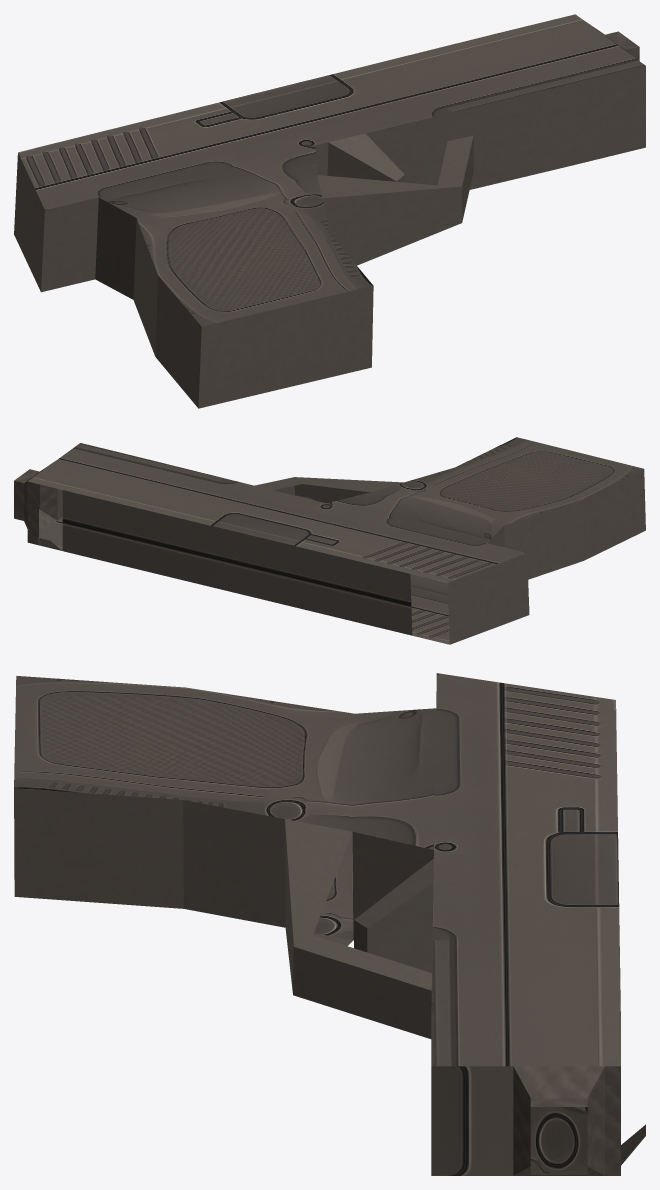
The model's file is pistol.fbx.
The picture shows the model from 3 angles, top to bottom: view 1: azimuth 30°, elevation 25°; view 2: azimuth 150°, elevation 25°; view 3: azimuth 270°, elevation 25°; orthographic projection. The views are drawn at different scales.
Parts seen in each view (by area): view 1: Cube; view 2: Cube; view 3: Cube.
Boxes of the visible parts, x1,y1,x2,y2 form: Cube: (14, 14, 645, 408); Cube: (14, 437, 645, 644); Cube: (14, 673, 645, 1175).
Bounding box in the file's own units: 1623 × 205 × 1044.
Materials: 1 (1 with a texture image).
